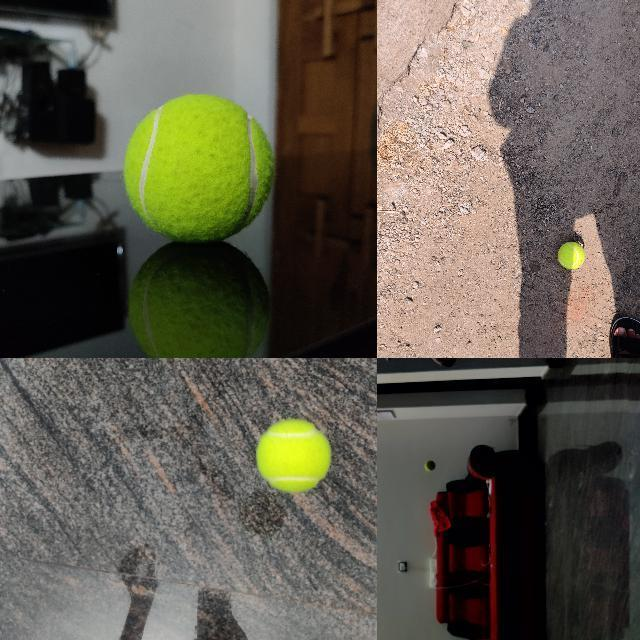tennis-ball: (124, 93, 275, 243), (255, 419, 331, 492), (558, 242, 585, 269), (425, 460, 436, 470)
